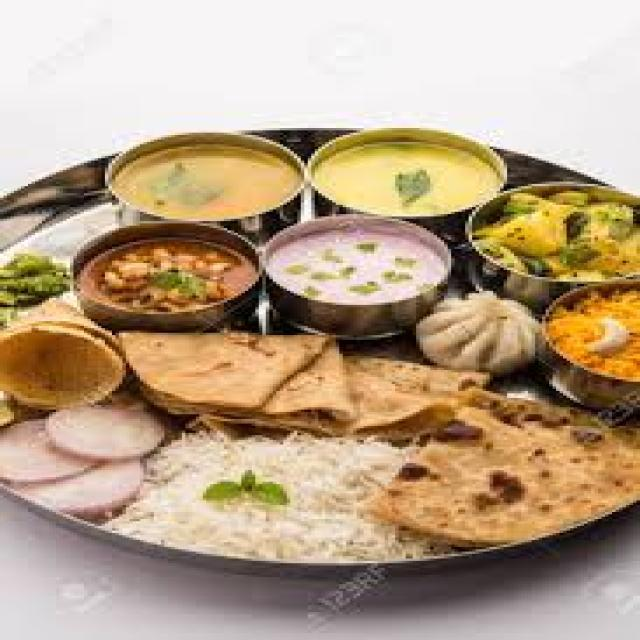curd: (254, 214, 462, 327)
papad: (111, 323, 361, 427), (324, 349, 504, 435), (411, 293, 551, 374)
raita: (258, 218, 460, 324)
rice: (134, 424, 486, 563), (542, 283, 638, 388)
roti: (155, 418, 587, 557), (367, 385, 627, 550)
veg-fry: (83, 232, 262, 329)
